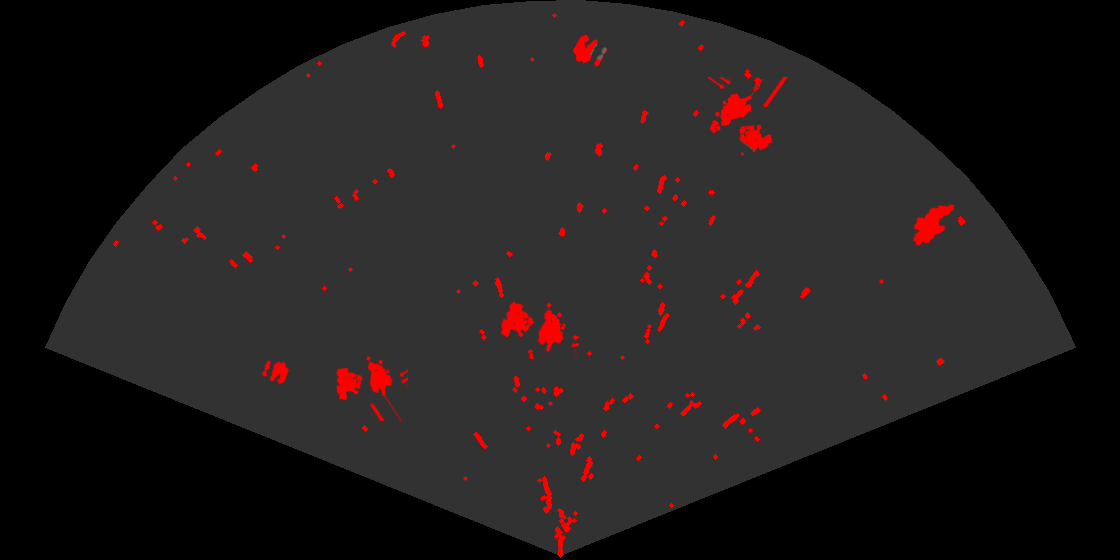AUV: (911, 202, 956, 247)
ball: (571, 33, 609, 68), (260, 359, 291, 386)
cage: (706, 77, 789, 157), (334, 354, 408, 421), (499, 300, 579, 359)
